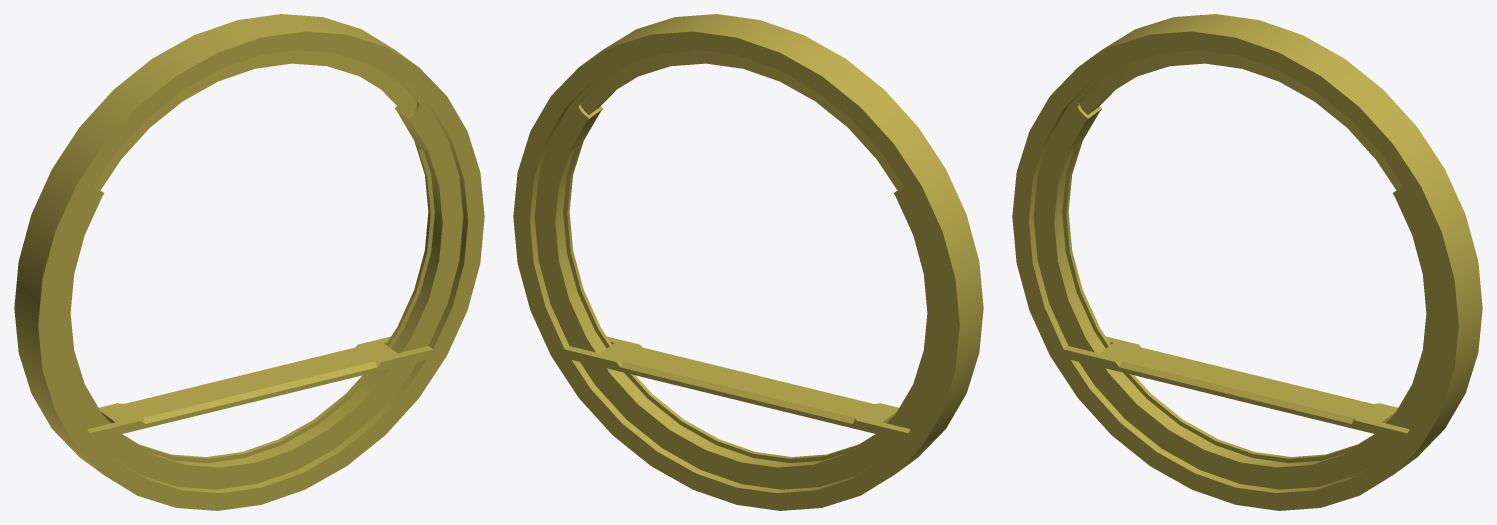
The model's file is RoundCorr_Separator_A.FBX.
3 renders of one model, left to right at view 1: azimuth 30°, elevation 25°; view 2: azimuth 150°, elevation 25°; view 3: azimuth 330°, elevation 25°, orthographic.
Parts seen in each view (by area): view 1: RoundCorr_Separator_A; view 2: RoundCorr_Separator_A; view 3: RoundCorr_Separator_A.
Boxes of the visible parts, bbox=[...] form: RoundCorr_Separator_A: bbox=[14, 14, 484, 510]; RoundCorr_Separator_A: bbox=[513, 14, 983, 510]; RoundCorr_Separator_A: bbox=[1012, 14, 1482, 510].
Bounding box in the file's own units: 540 × 540 × 50.
